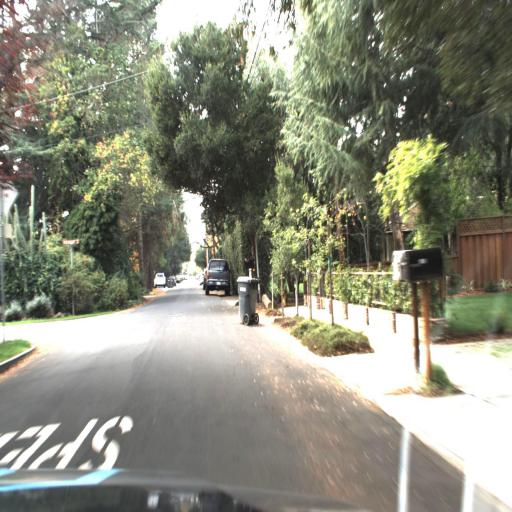car: (201, 256, 234, 300), (152, 264, 169, 294)
